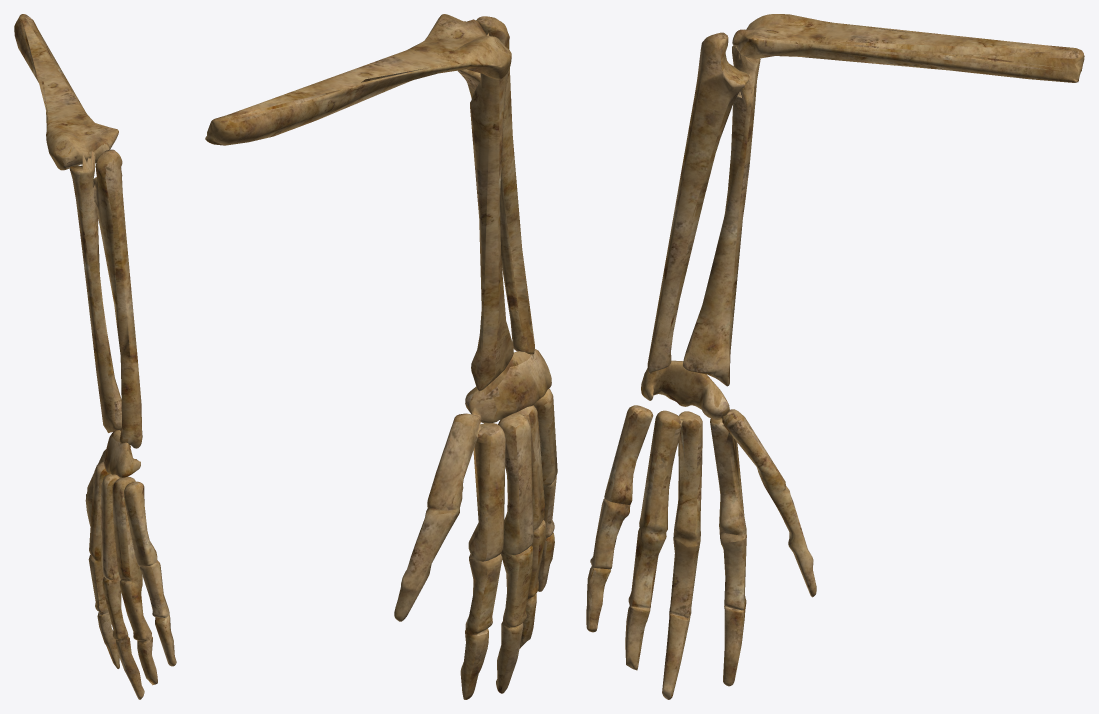
The model's file is skeletal_arm_pose2.dae.
3 renders of one model, left to right at view 1: azimuth 30°, elevation 25°; view 2: azimuth 150°, elevation 25°; view 3: azimuth 270°, elevation 25°, orthographic. The views are drawn at different scales.
Parts seen in each view (by area): view 1: Cube; view 2: Cube; view 3: Cube.
Boxes of the visible parts, left/top/right/bottom form: Cube: left=14, top=14, right=176, bottom=699; Cube: left=205, top=14, right=557, bottom=699; Cube: left=586, top=14, right=1084, bottom=699.
Size of the model in its own units: 0.3613 by 1.17 by 1.76.
1 material, 1 textured.
